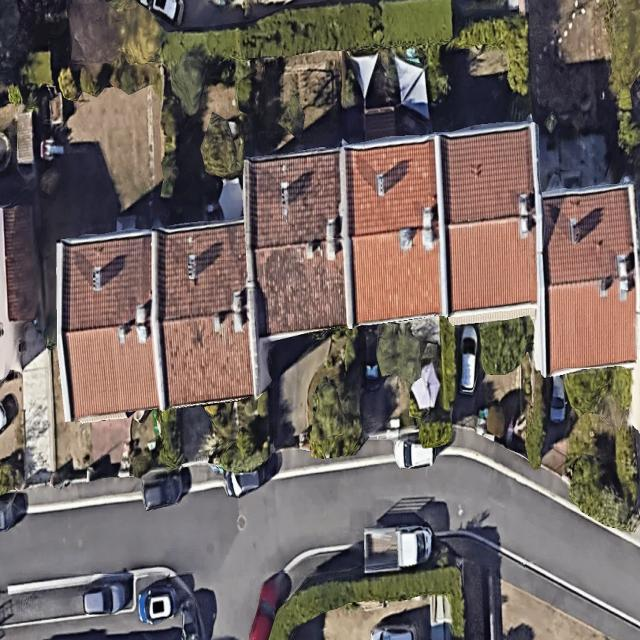maison: (48, 232, 166, 420), (244, 151, 346, 335), (153, 222, 251, 405), (542, 185, 636, 372), (345, 143, 441, 323), (443, 130, 536, 311)
